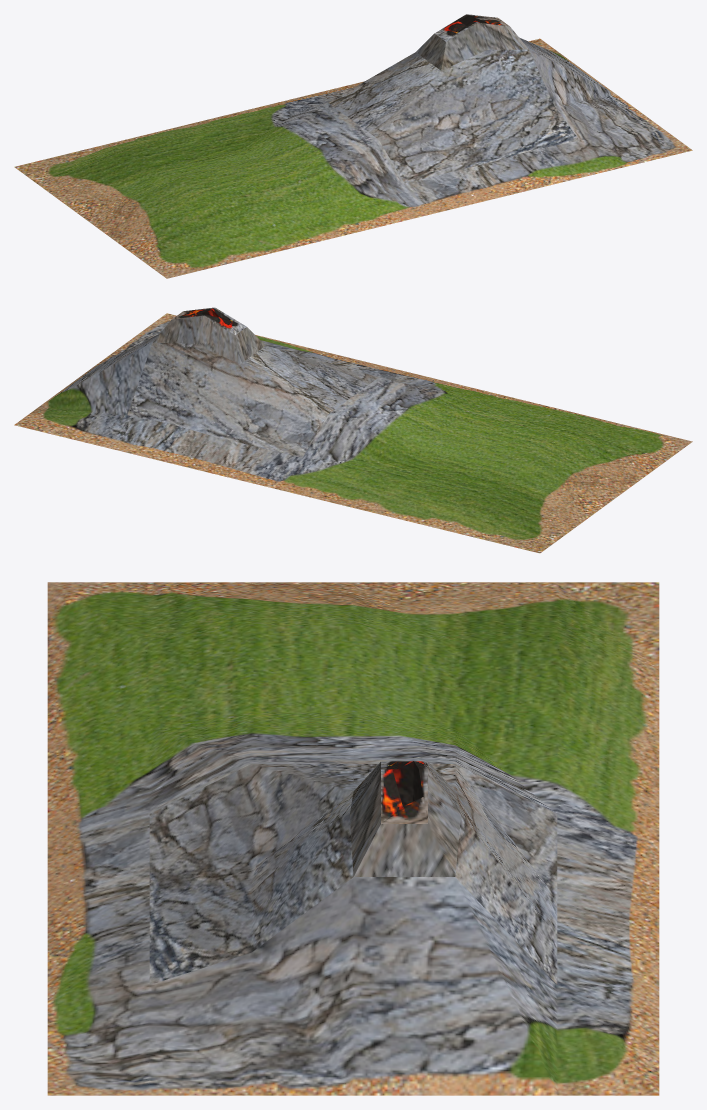
Rendered from Island.FBX.
The picture shows the model from 3 angles, top to bottom: view 1: azimuth 30°, elevation 25°; view 2: azimuth 150°, elevation 25°; view 3: azimuth 270°, elevation 25°; orthographic projection. The views are drawn at different scales.
Visible parts, largest first — view 1: Plane001; view 2: Plane001; view 3: Plane001.
Part boxes in pixels (bbox=[...]): Plane001: bbox=[14, 14, 692, 278]; Plane001: bbox=[14, 307, 692, 553]; Plane001: bbox=[47, 582, 659, 1095].
Bounding box in the file's own units: 136 × 24.37 × 68.32.
Materials: 1 (1 with a texture image).
